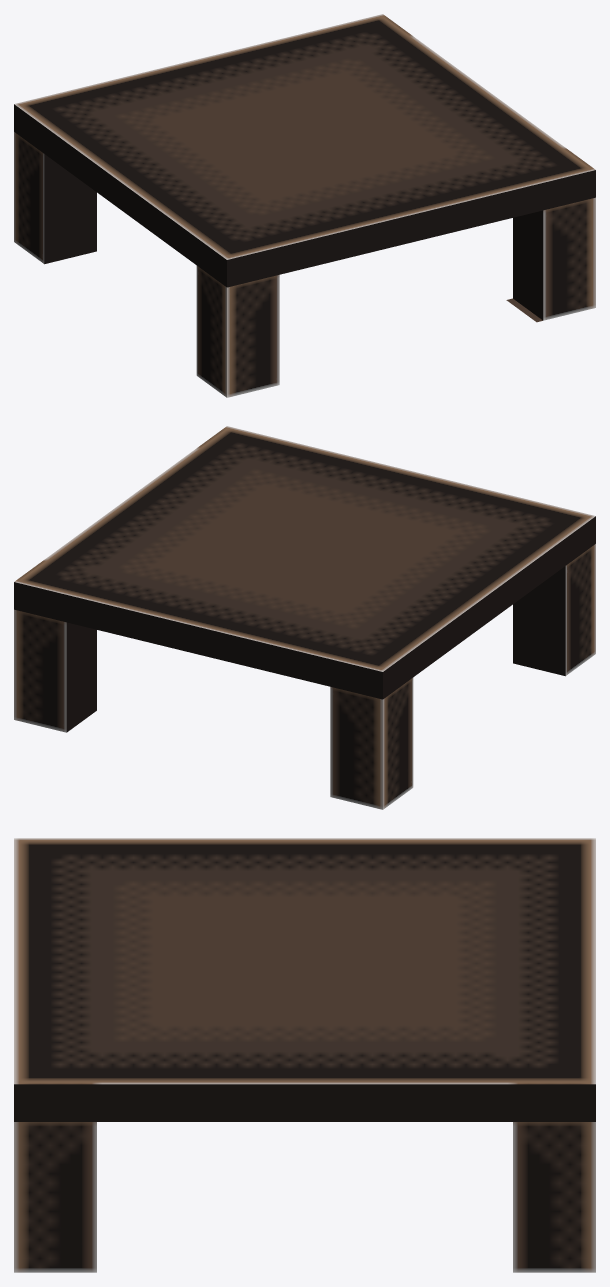
File: lowTable.obj
3 views of the same model, one above another, from view 1: azimuth 30°, elevation 25°; view 2: azimuth 150°, elevation 25°; view 3: azimuth 270°, elevation 25° (orthographic). The views are drawn at different scales.
Parts seen in each view (by area): view 1: Default; view 2: Default; view 3: Default.
Boxes of the visible parts, box(x1,y1,x2,y2) form: Default: box(14, 14, 595, 397); Default: box(14, 426, 595, 809); Default: box(14, 838, 595, 1272).
Bounding box in the file's own units: 3.5 × 1.25 × 3.5.
Materials: 1 (1 with a texture image).
